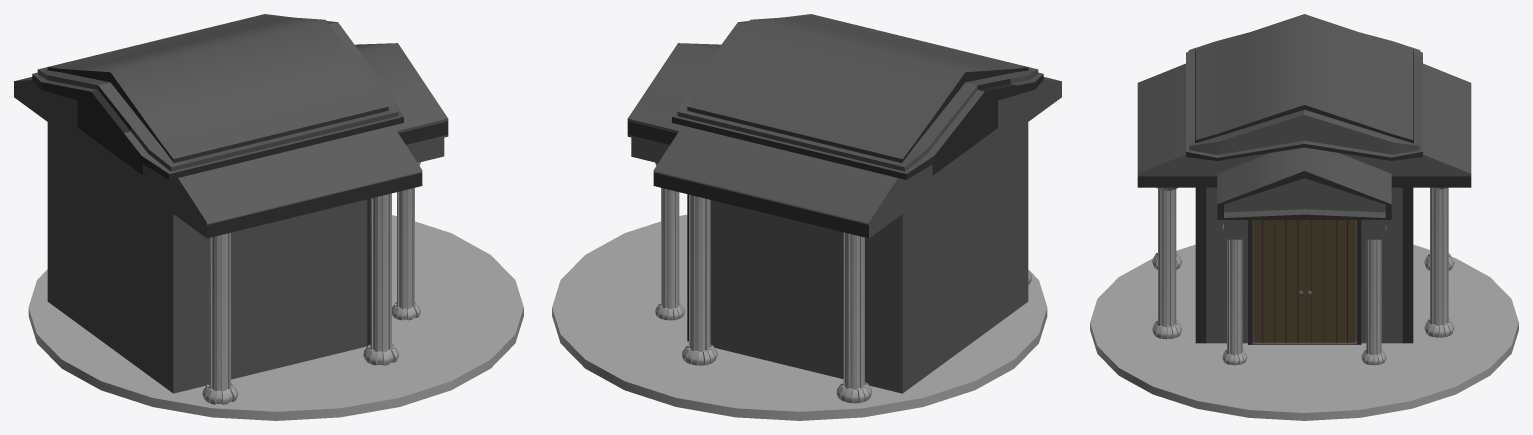
Rendered from mausoleum.fbx.
The picture shows the model from 3 angles, left to right: view 1: azimuth 30°, elevation 25°; view 2: azimuth 150°, elevation 25°; view 3: azimuth 270°, elevation 25°; orthographic projection. The views are drawn at different scales.
Visible parts, largest first — view 1: pCube39; view 2: pCube39; view 3: pCube39.
Boxes of the visible parts, <box> form: pCube39: <box>14,14,523,420</box>; pCube39: <box>552,14,1061,420</box>; pCube39: <box>1090,14,1518,420</box>.
Size of the model in its own units: 1073 by 680 by 1073.
